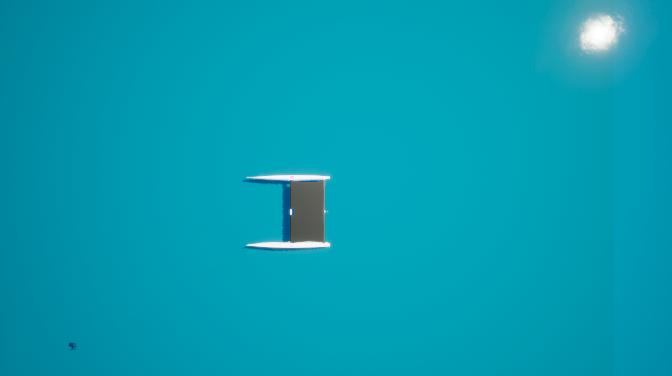boat: (241, 171, 336, 253)
drone: (67, 341, 77, 354)
land_base: (291, 182, 324, 241)
light_reflex: (562, 0, 636, 71)
